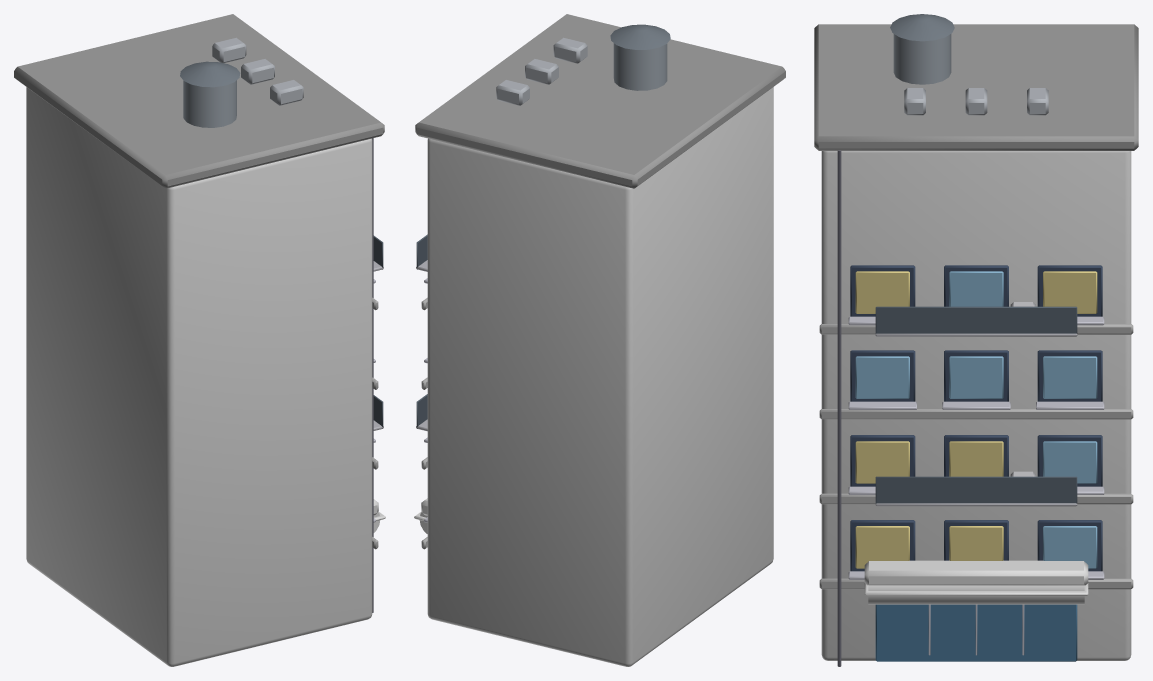
The model's file is bld_4.glb.
3 views of the same model, side by side, from view 1: azimuth 30°, elevation 25°; view 2: azimuth 150°, elevation 25°; view 3: azimuth 270°, elevation 25° (orthographic). The views are drawn at different scales.
Parts seen in each view (by area): view 1: b; view 2: b; view 3: b.
Part boxes in pixels (box(x1,y1,x2,y2)): b: box(14, 14, 385, 666); b: box(414, 14, 785, 666); b: box(814, 14, 1138, 666).
Size of the model in its own units: 8.5 by 17.9 by 9.
